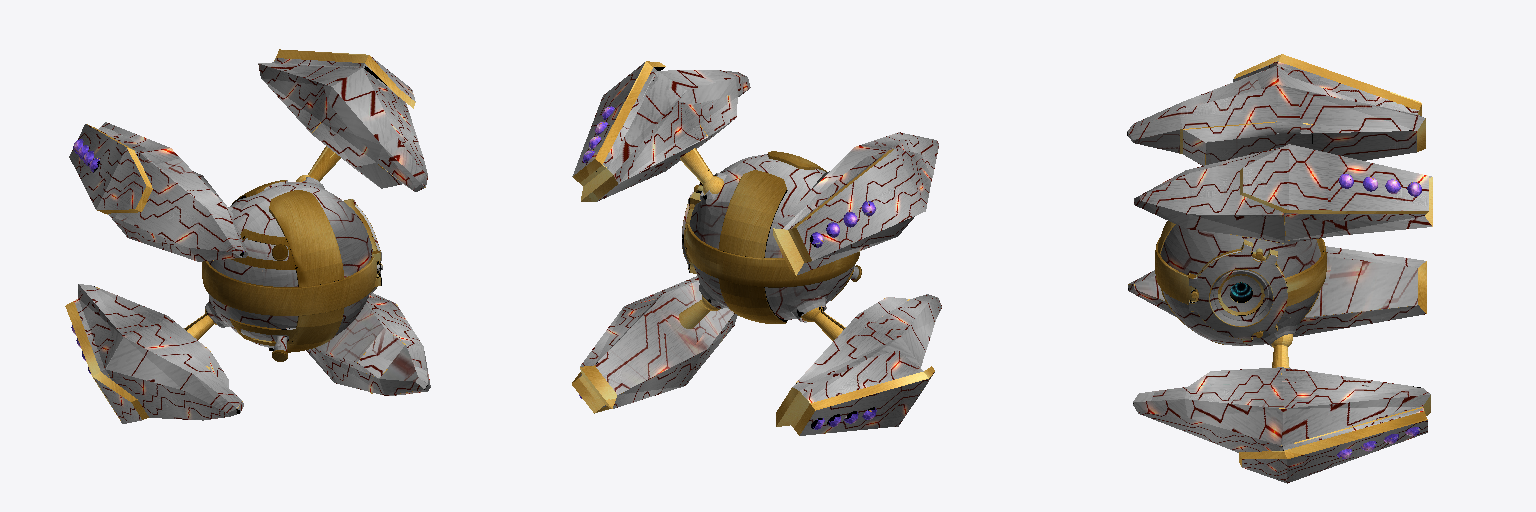
3 views of the same model, side by side, from view 1: azimuth 30°, elevation 25°; view 2: azimuth 150°, elevation 25°; view 3: azimuth 270°, elevation 25° (orthographic).
Visible parts, largest first — view 1: black.062_Sphere.064, yellow.008_Sphere.038, black.005_Sphere.015, black.090_Sphere.092; view 2: black.062_Sphere.064, yellow.008_Sphere.038, black.005_Sphere.015, black.090_Sphere.092, black.099_Sphere.101; view 3: black.062_Sphere.064, black.005_Sphere.015, black.090_Sphere.092, yellow.008_Sphere.038, black.099_Sphere.101.
Part boxes in pixels (left/top/right/bottom): black.062_Sphere.064: left=69, top=57, right=430, bottom=423; yellow.008_Sphere.038: left=202, top=180, right=382, bottom=361; black.005_Sphere.015: left=205, top=177, right=382, bottom=351; black.090_Sphere.092: left=65, top=49, right=415, bottom=419; black.062_Sphere.064: left=572, top=62, right=941, bottom=435; yellow.008_Sphere.038: left=682, top=151, right=861, bottom=323; black.005_Sphere.015: left=682, top=154, right=858, bottom=322; black.090_Sphere.092: left=572, top=61, right=934, bottom=435; black.099_Sphere.101: left=579, top=106, right=876, bottom=429; black.062_Sphere.064: left=1127, top=62, right=1432, bottom=483; black.005_Sphere.015: left=1160, top=225, right=1320, bottom=346; black.090_Sphere.092: left=1234, top=54, right=1428, bottom=466; yellow.008_Sphere.038: left=1155, top=221, right=1326, bottom=344; black.099_Sphere.101: left=1337, top=174, right=1421, bottom=458.
Size of the model in its own units: 1.94 by 1.93 by 1.58.
4 materials, 4 textured.